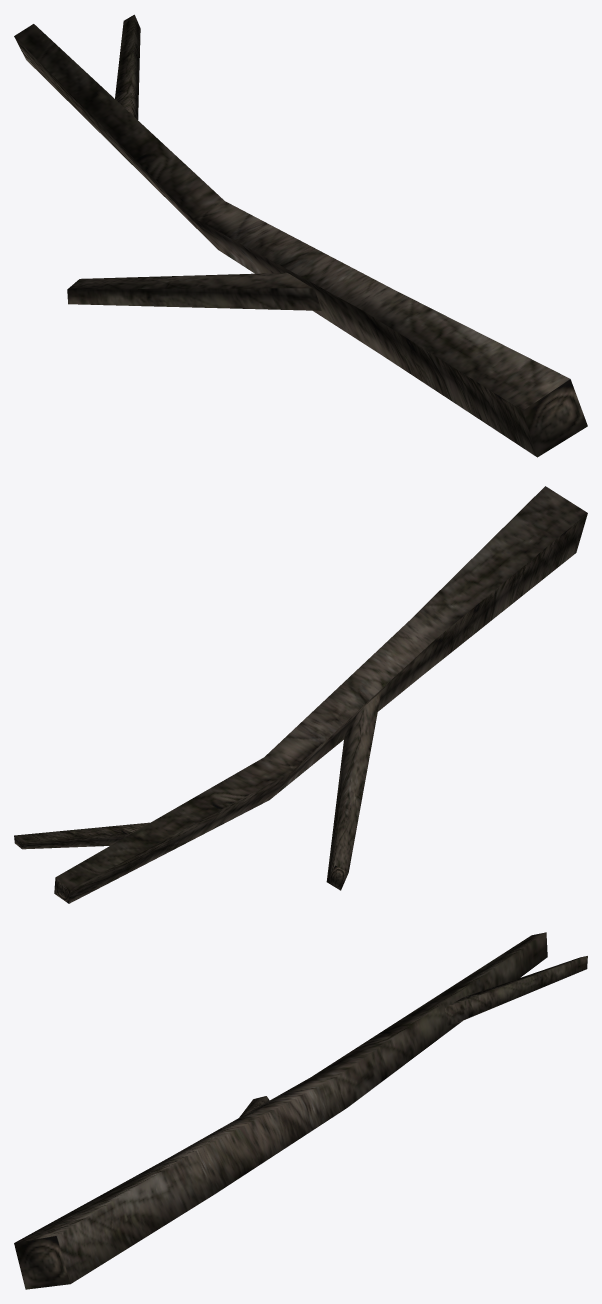
File: MEP_S_Branch_05.fbx
3 renders of one model, top to bottom at view 1: azimuth 30°, elevation 25°; view 2: azimuth 150°, elevation 25°; view 3: azimuth 330°, elevation 25°, orthographic. The views are drawn at different scales.
Visible parts, largest first — view 1: MEP_S_Branch_05; view 2: MEP_S_Branch_05; view 3: MEP_S_Branch_05.
Boxes of the visible parts, x1=… form: MEP_S_Branch_05: x1=14, y1=14, x2=587, y2=457; MEP_S_Branch_05: x1=14, y1=486, x2=587, y2=903; MEP_S_Branch_05: x1=14, y1=932, x2=587, y2=1289.
Bounding box in the file's own units: 0.9075 × 0.617 × 3.8.
